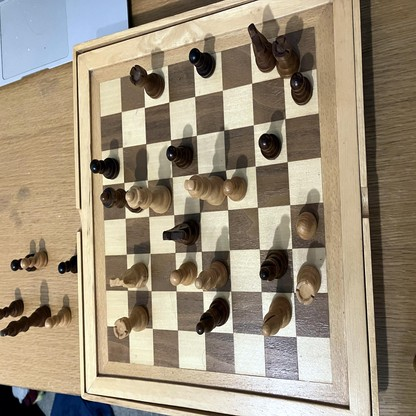bishop_black: (197, 298, 231, 334), (259, 252, 287, 280)
bishop_white: (262, 297, 292, 335), (196, 261, 227, 291)
king_black: (0, 306, 50, 337)
king_white: (184, 175, 227, 205)
knight_black: (248, 24, 275, 72), (163, 219, 199, 244)
knight_white: (110, 263, 148, 288)
pawn_black: (190, 49, 216, 77), (291, 74, 312, 104), (90, 159, 121, 179), (167, 147, 193, 169), (259, 134, 281, 159)
pawn_white: (170, 262, 197, 287), (295, 212, 317, 240), (224, 176, 247, 200), (46, 308, 71, 329), (21, 250, 47, 270)
queen_black: (101, 187, 142, 213)
queen_white: (126, 184, 172, 212)
rock_black: (129, 65, 165, 98), (273, 36, 300, 79)
rock_white: (114, 306, 149, 339), (295, 265, 321, 305)
